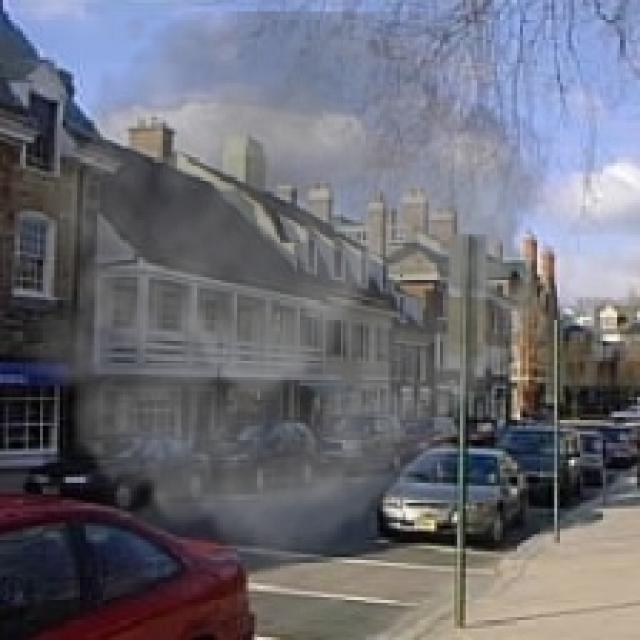smoke: (9, 11, 568, 563)
